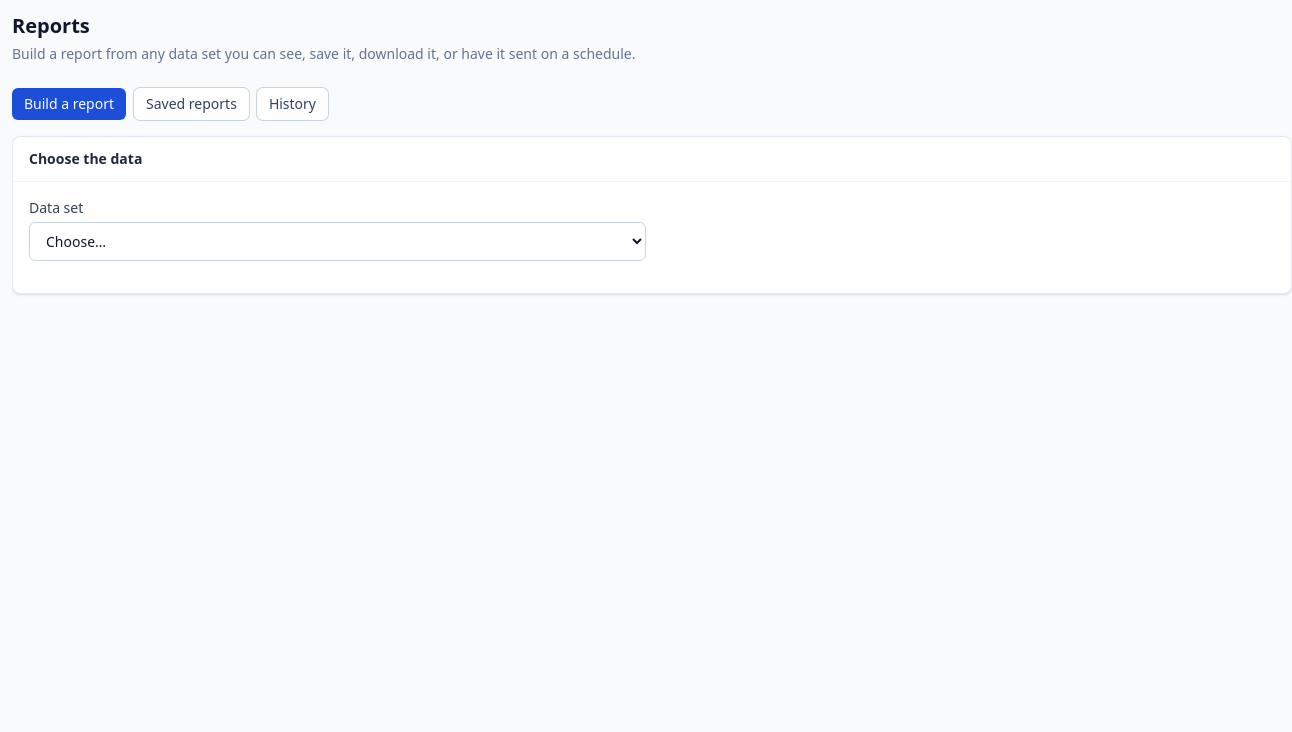
it: Build a report › blocks a backwards date range before asking the server
The width and height of the screenshot is (1292, 732).
Select "Sales backlog" in the dropdown labelled "Data set" at (338, 242), box 29,222 -> 646,261
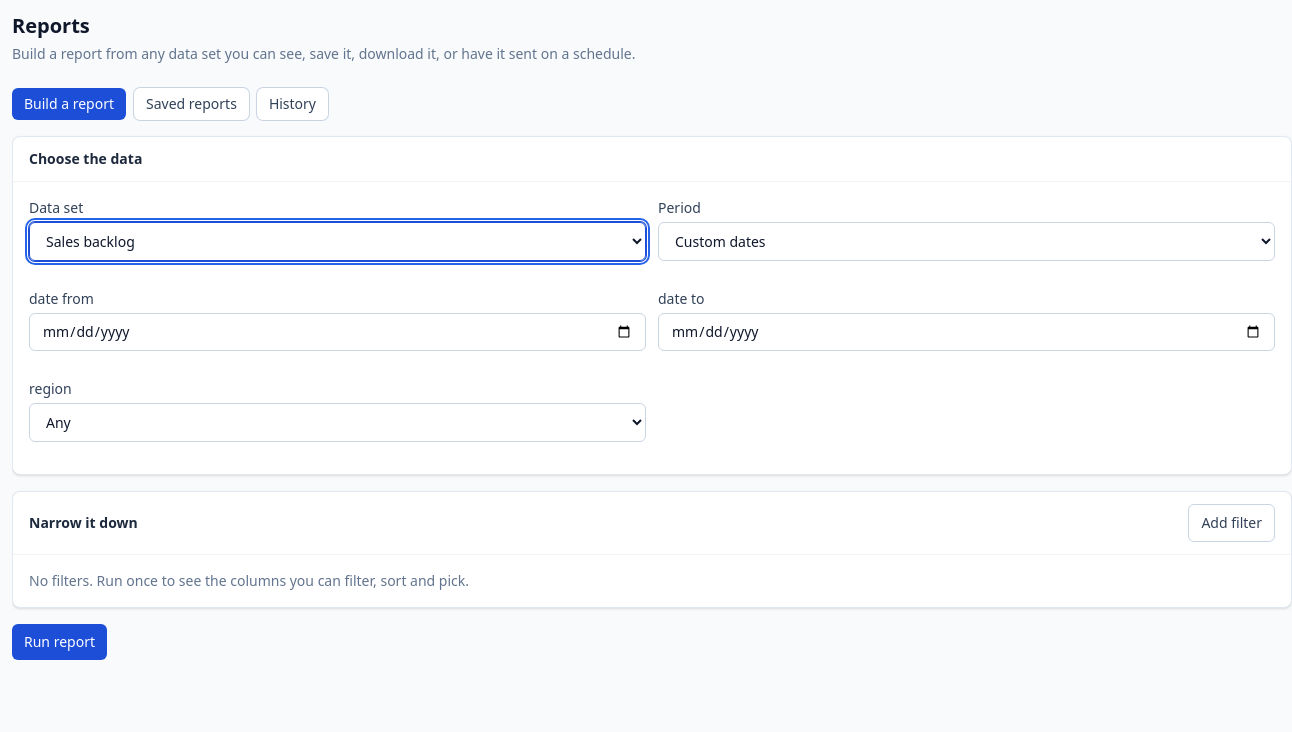
Type "2026-03-01" into the date field labelled "date from".
click(338, 332); type("2026-03-01")  # box 29,313 -> 646,351
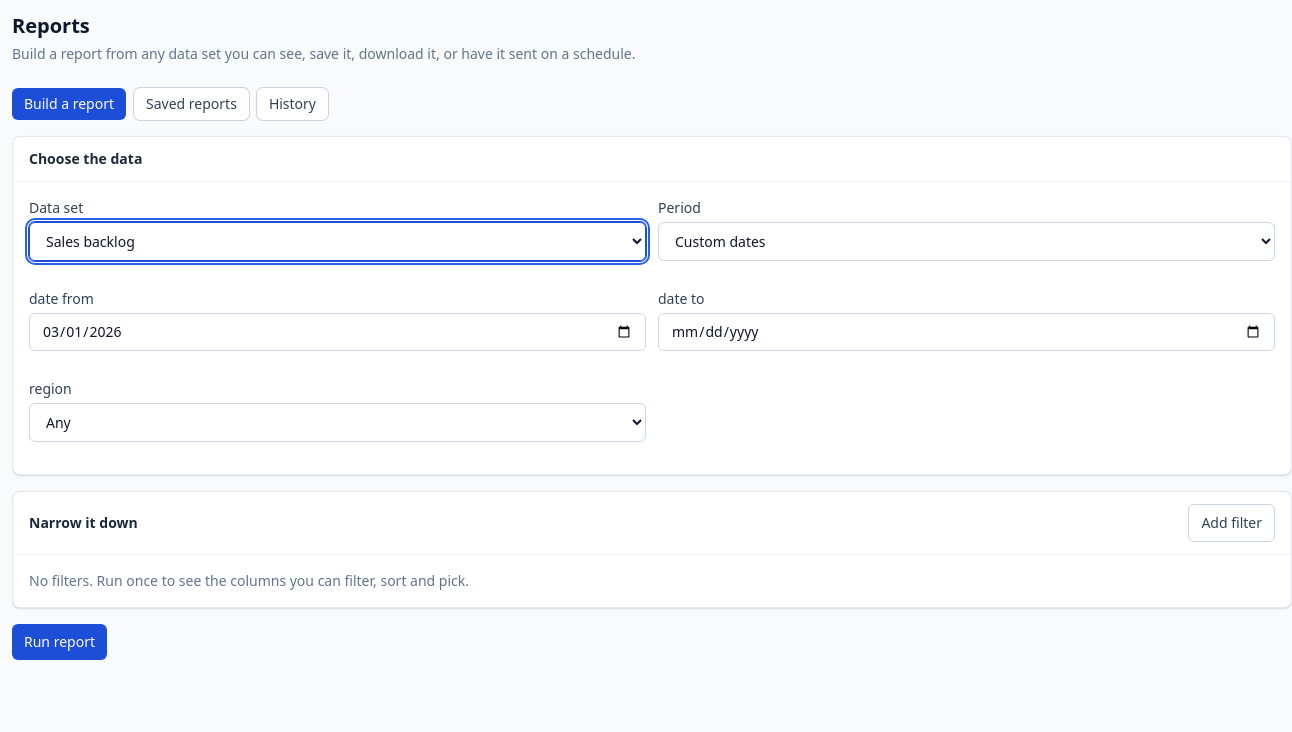
Type "2026-02-01" into the date field labelled "date to".
click(966, 332); type("2026-02-01")  # box 658,313 -> 1275,351
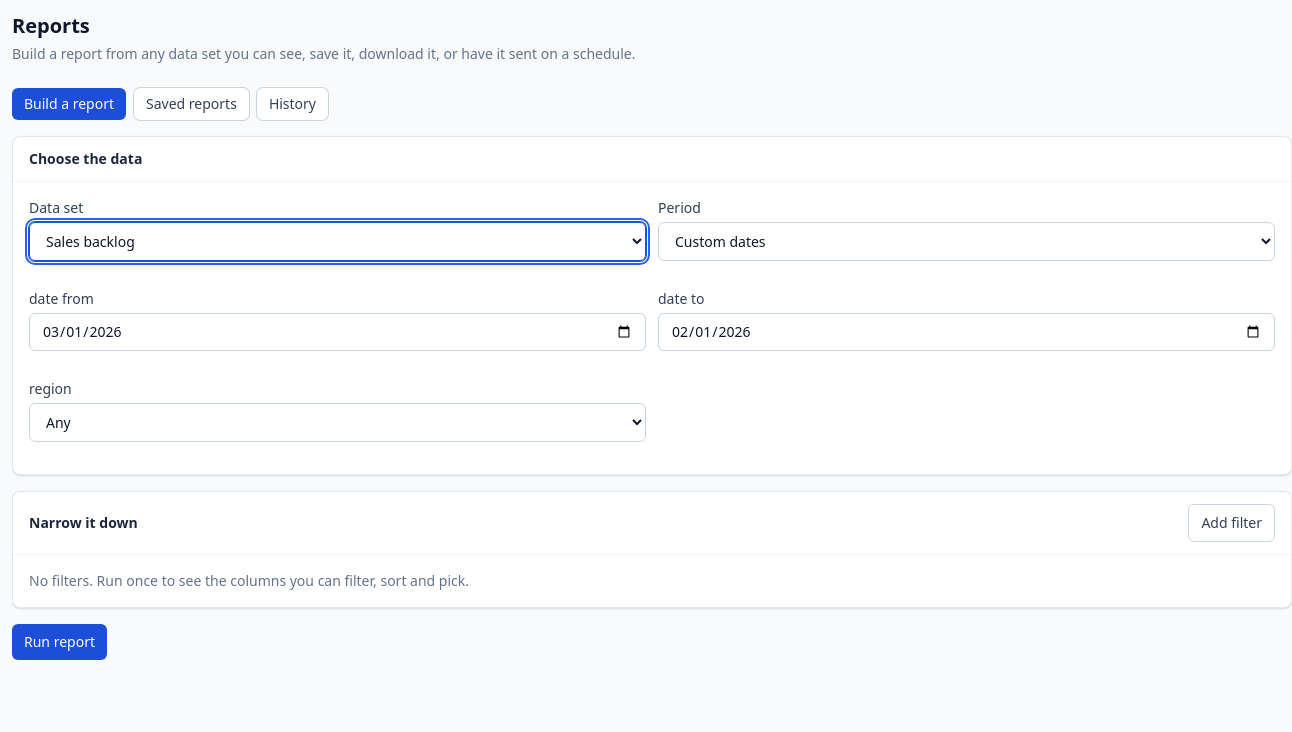
Click the button "Run report".
click(60, 642)  # box 12,624 -> 107,660
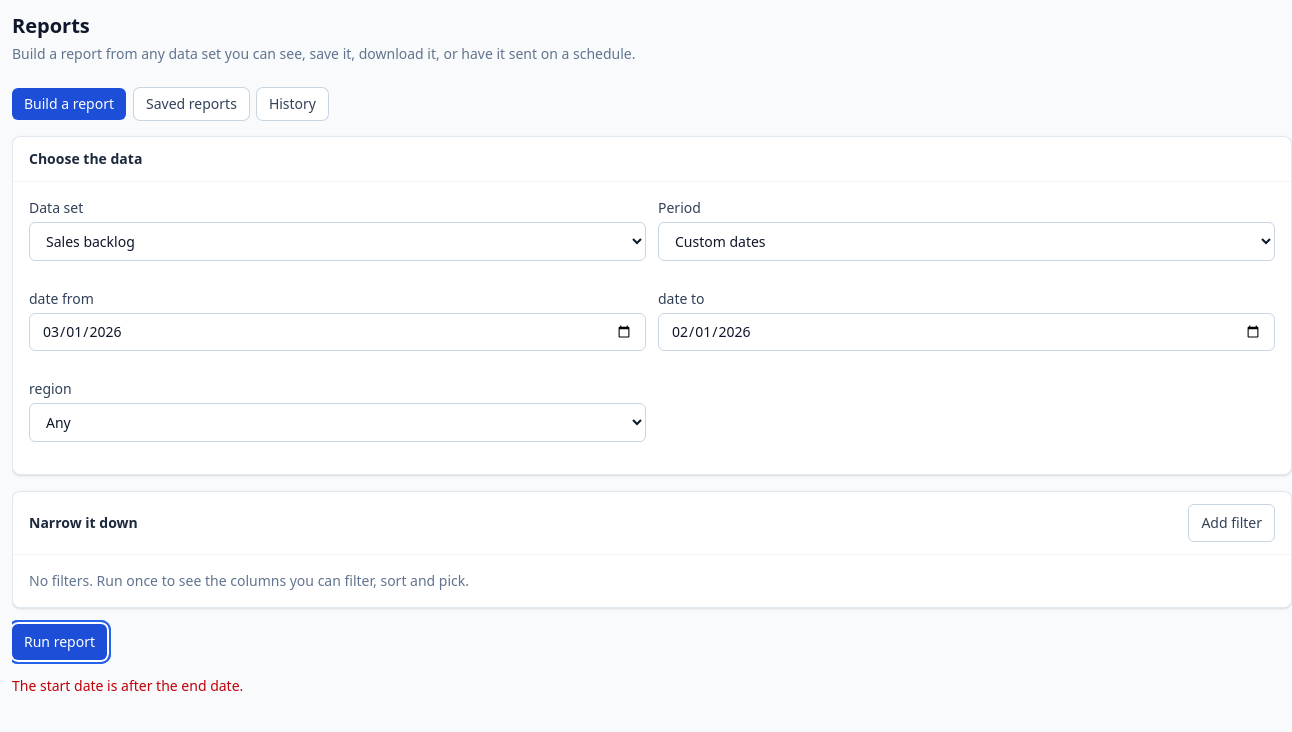
Now the message shows "after", box 12,676 -> 243,695
